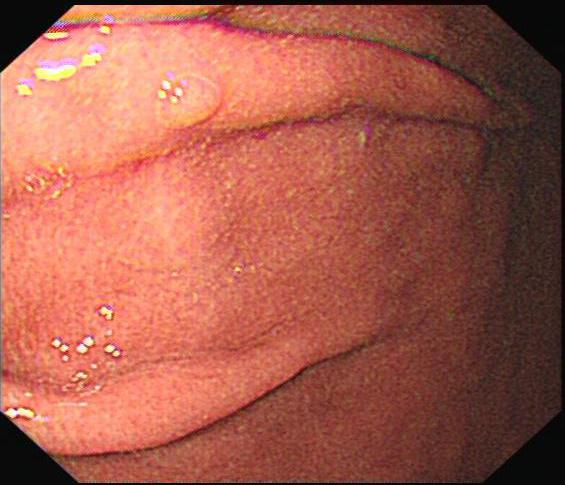Polyp: (154, 68, 243, 125)
